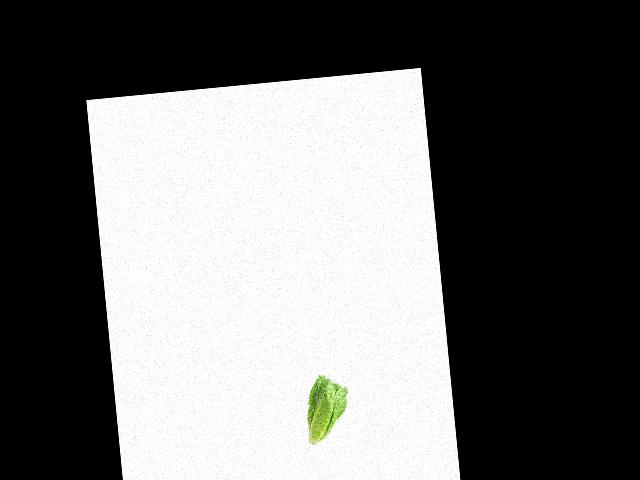lettuce: (301, 372, 354, 452)
